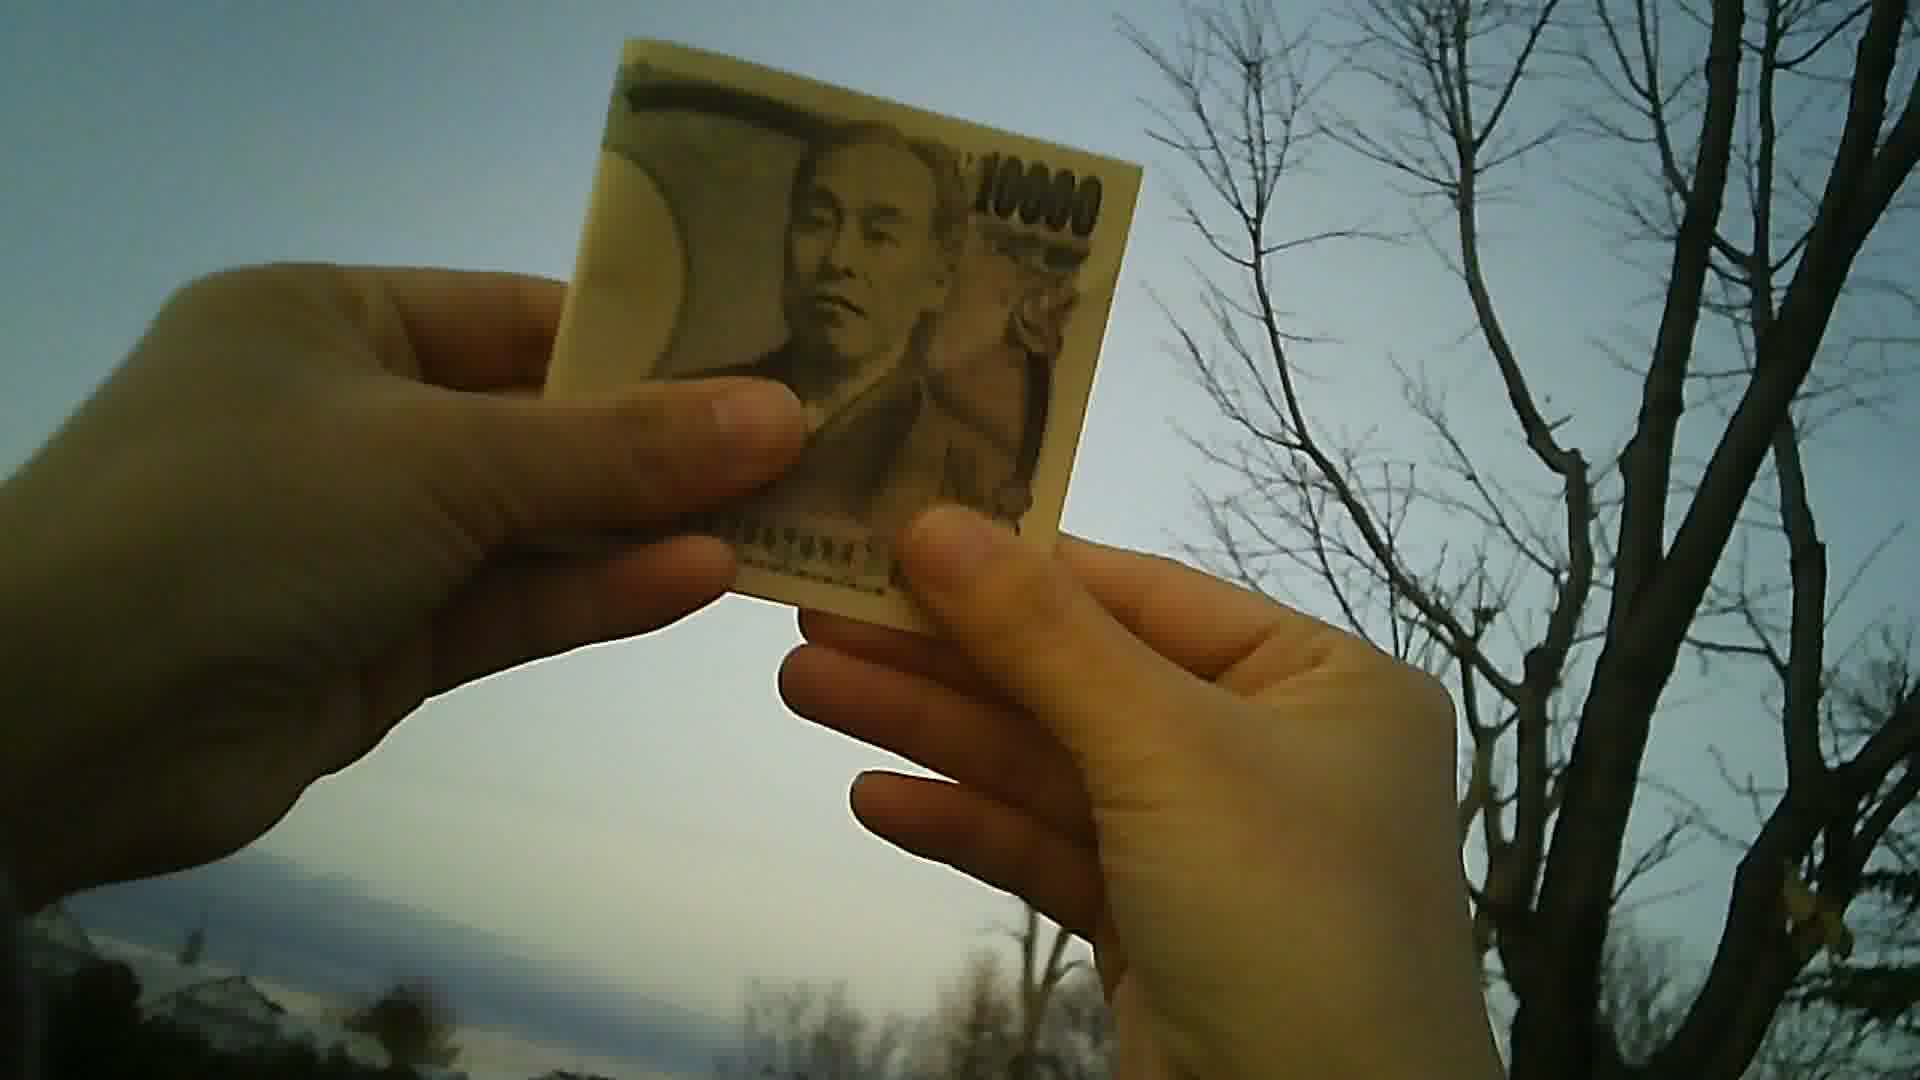10,000 Yen: (553, 29, 1118, 653)
